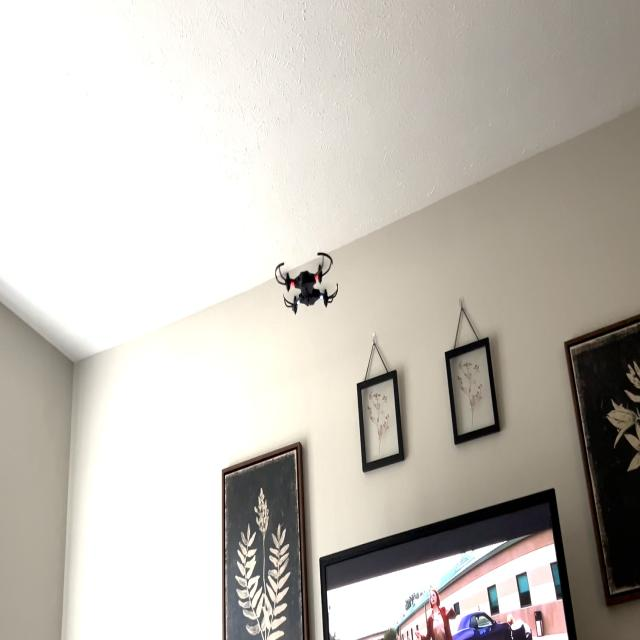drone: (269, 239, 350, 331)
